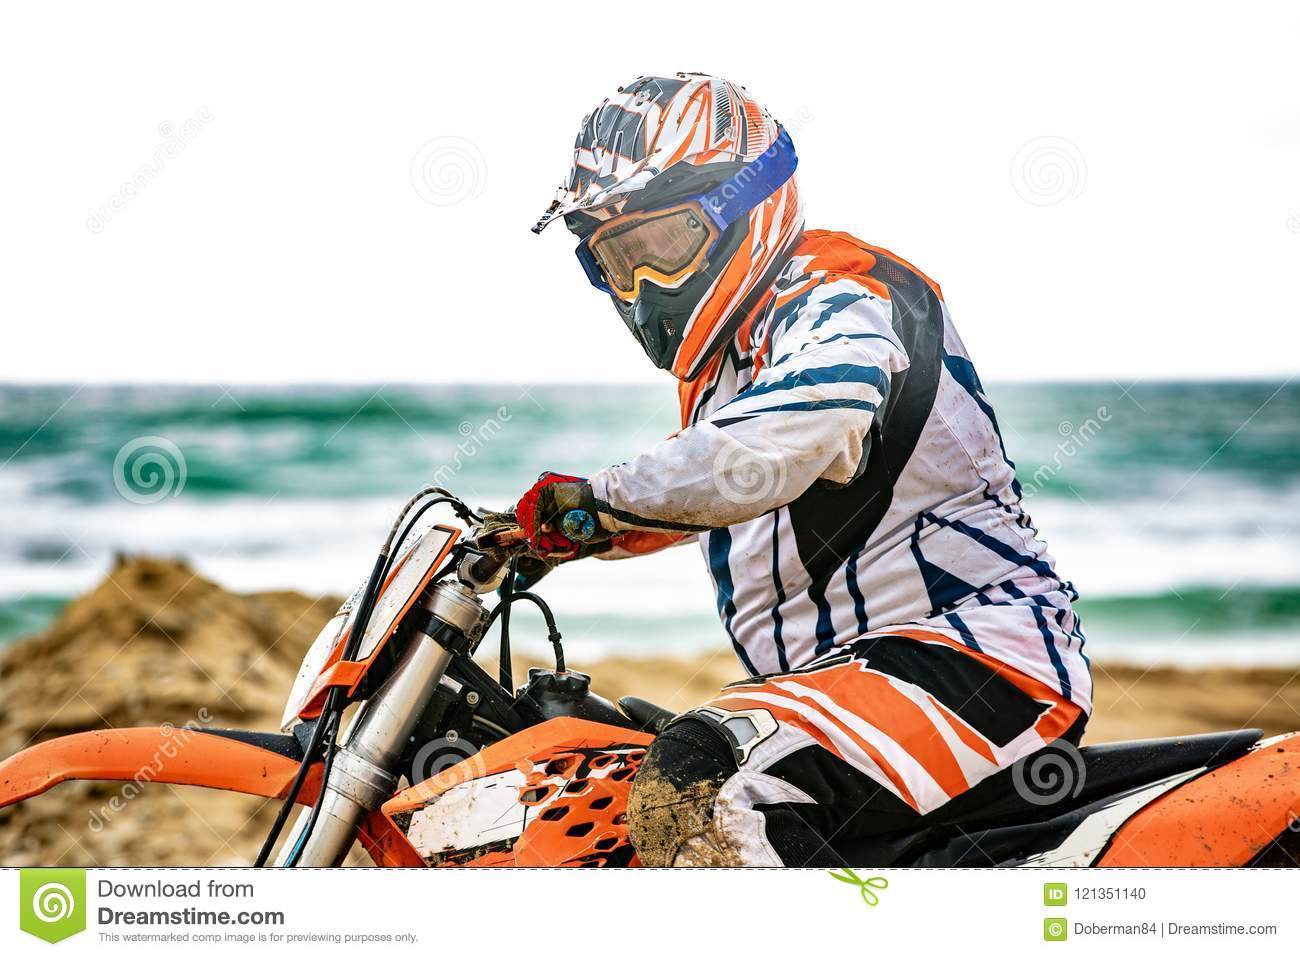helmet: (548, 55, 813, 382)
